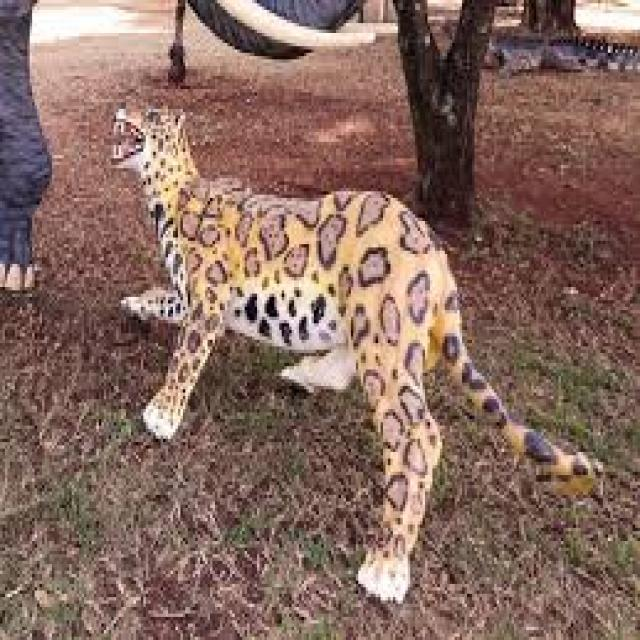Jaguar: (104, 92, 546, 580)
